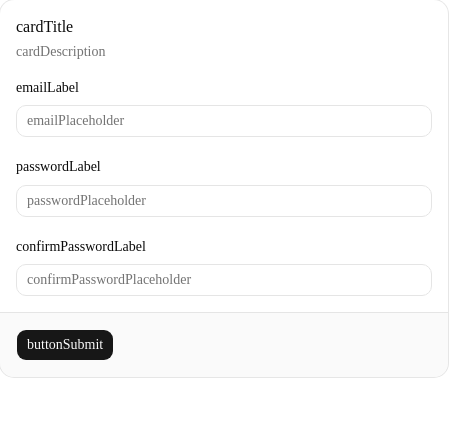
Test: SignUpForm › shows server error when signUpAction throws one
Type "test@test.com" into the field labelled "emailLabel" at {"x": 224, "y": 121}, box [16,105,432,137]
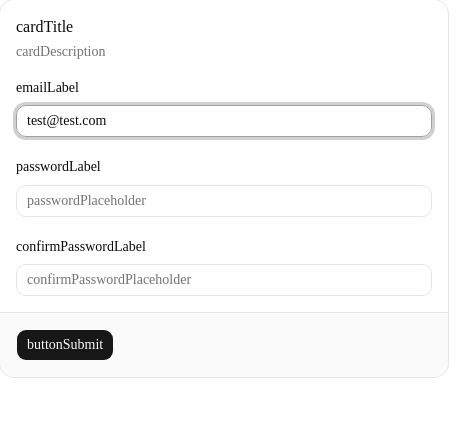
Type "Test!100" into the password field labelled "passwordLabel" at {"x": 224, "y": 200}, box [16,184,432,216]
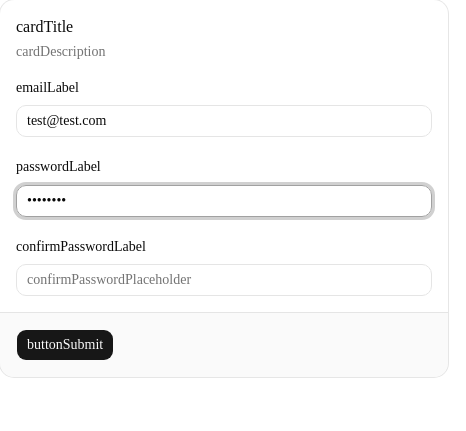
Type "Test!100" into the password field labelled "confirmPasswordLabel" at {"x": 224, "y": 280}, box [16,264,432,296]
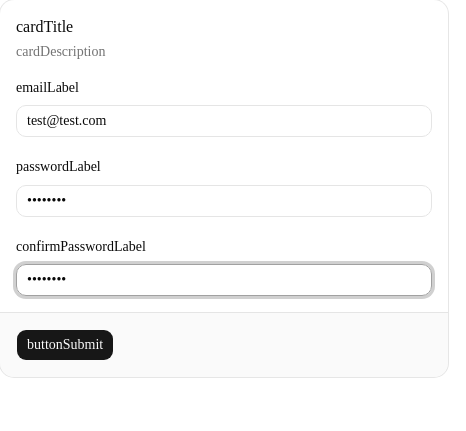
Click the button "buttonSubmit" at {"x": 65, "y": 345}, box [16,329,114,361]
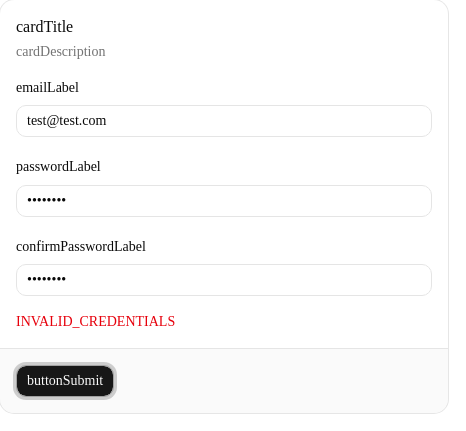
Expected: the message reads "INVALID_CREDENTIALS", [16,314,175,329]
